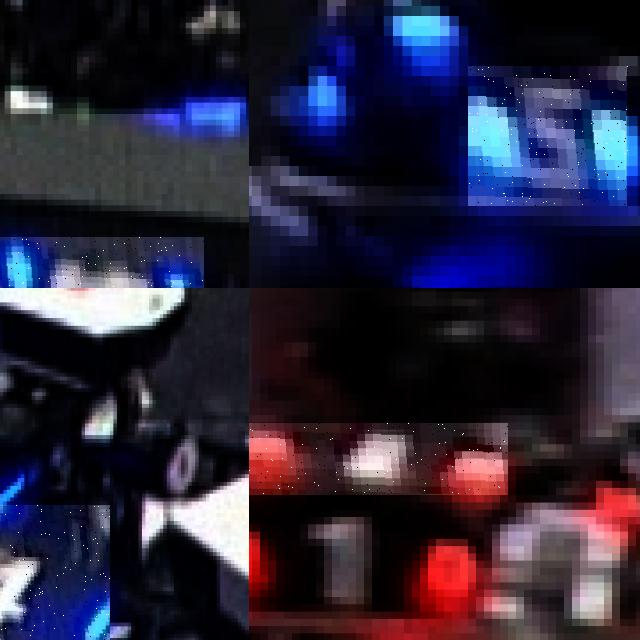B4: (0, 505, 109, 640), (0, 236, 203, 288)
B5: (468, 66, 628, 206)
R1: (249, 509, 484, 611), (249, 422, 508, 495)
